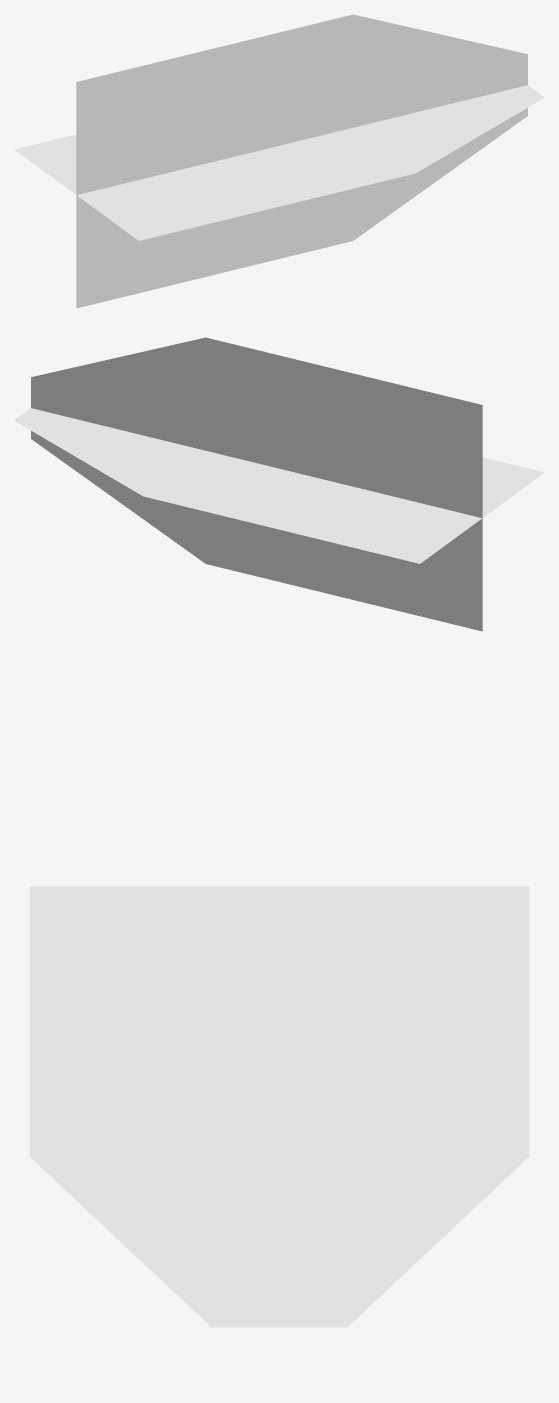
The model's file is Top_River.fbx.
3 views of the same model, one above another, from view 1: azimuth 30°, elevation 25°; view 2: azimuth 150°, elevation 25°; view 3: azimuth 270°, elevation 25° (orthographic). The views are drawn at different scales.
Visible parts, largest first — view 1: Top_River2, Top_River3, Top_River5, Top_River4; view 2: Top_River2, Top_River3, Top_River5, Top_River4; view 3: Top_River3, Top_River4.
Boxes of the visible parts, bbox=[...] form: Top_River2: bbox=[76, 14, 527, 308]; Top_River3: bbox=[14, 85, 544, 240]; Top_River5: bbox=[76, 17, 527, 307]; Top_River4: bbox=[19, 86, 542, 240]; Top_River2: bbox=[31, 337, 482, 631]; Top_River3: bbox=[14, 408, 544, 563]; Top_River5: bbox=[31, 340, 482, 630]; Top_River4: bbox=[16, 409, 543, 559]; Top_River3: bbox=[29, 886, 529, 1327]; Top_River4: bbox=[29, 886, 529, 1327].
Bounding box in the file's own units: 313 × 150 × 150.
Materials: 1 (1 with a texture image).
